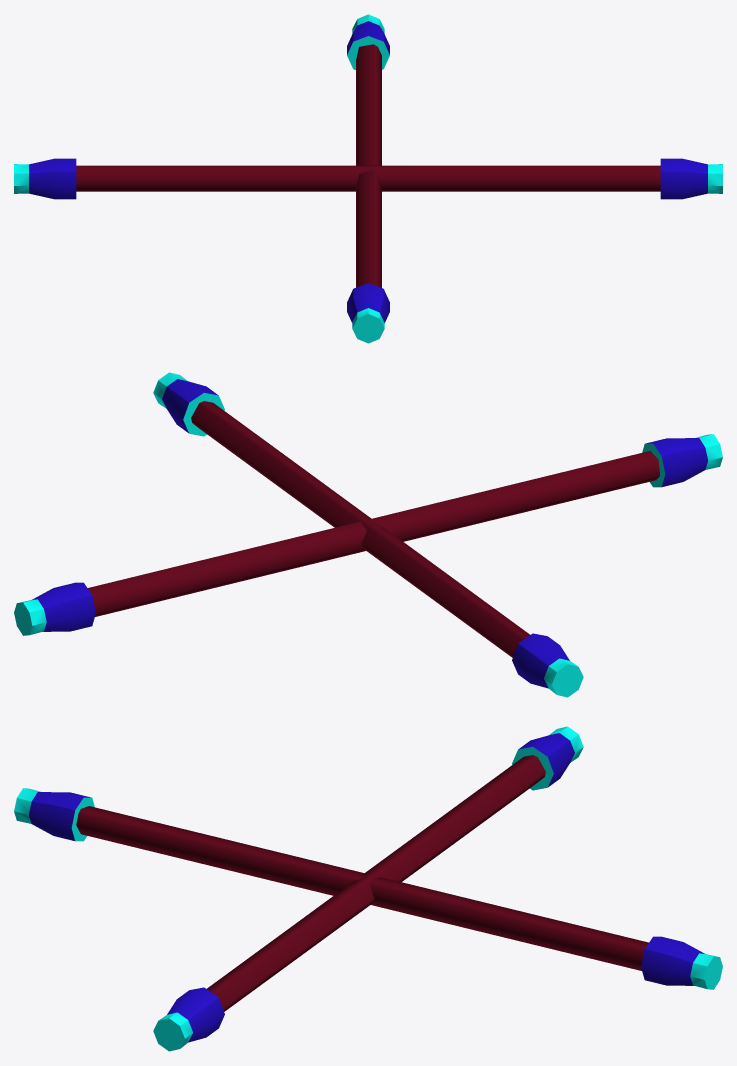
File: ETC0310015.fbx
The picture shows the model from 3 angles, top to bottom: view 1: azimuth 30°, elevation 25°; view 2: azimuth 150°, elevation 25°; view 3: azimuth 270°, elevation 25°; orthographic projection. The views are drawn at different scales.
Visible parts, largest first — view 1: smETC0310015; view 2: smETC0310015; view 3: smETC0310015.
Boxes of the visible parts, x1,y1,x2,y2 form: smETC0310015: (14, 14, 722, 343); smETC0310015: (14, 372, 722, 697); smETC0310015: (14, 726, 722, 1051).
Size of the model in its own units: 241 by 16.47 by 241.
Materials: 2 (1 with a texture image).
